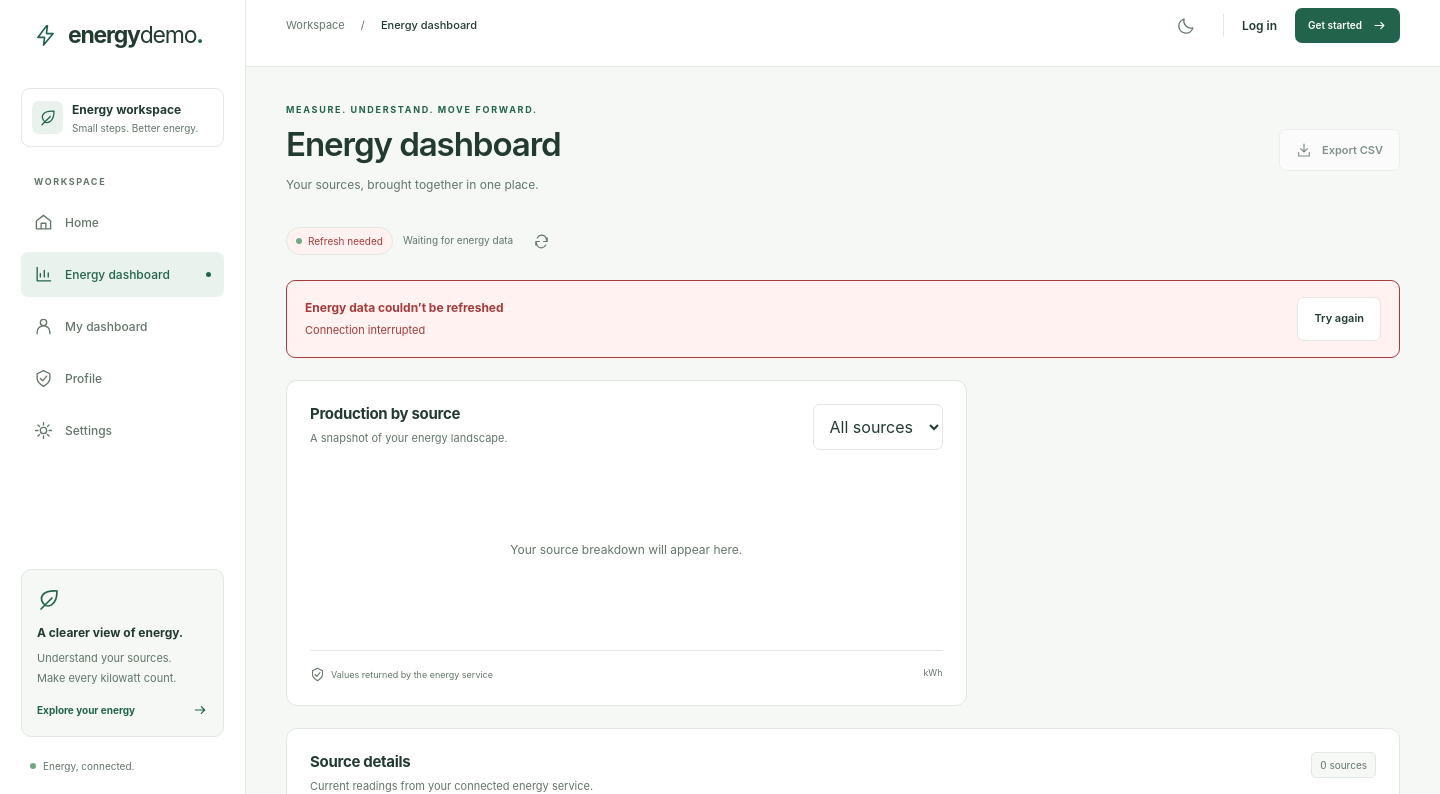
Test: public pages and energy › handles initial failure and retries
This screenshot has width=1440, height=794.
Expected: the message shows "Connection interrupted", [305,323,425,337]
Click the button "Try again": (1339, 319) [1298,297,1381,341]
(page scrolled)
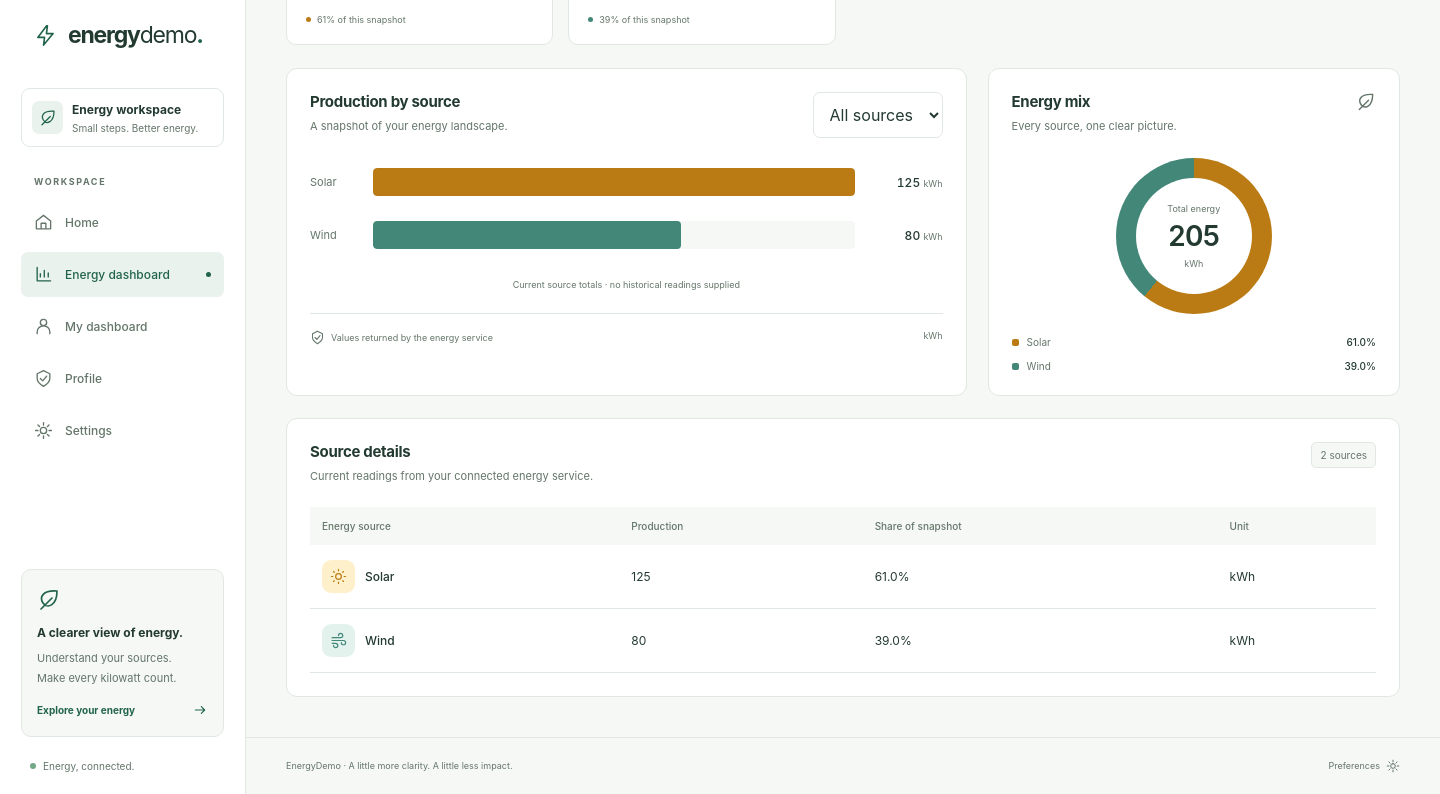
Result: the cell "125" is shown at [619,545,863,608]
